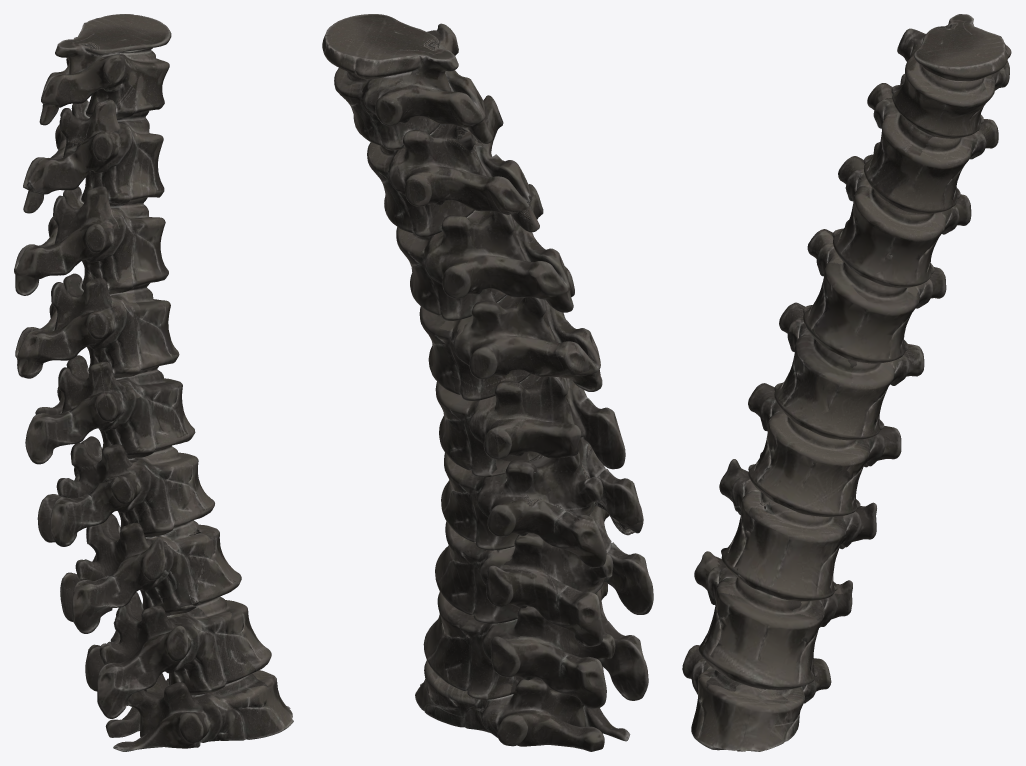
File: spine-phone.glb
3 renders of one model, left to right at view 1: azimuth 30°, elevation 25°; view 2: azimuth 150°, elevation 25°; view 3: azimuth 270°, elevation 25°, orthographic. The views are drawn at different scales.
Visible parts, largest first — view 1: tripo_node_b2a1ff4f-8972-4df4-b4bd-6063b4841254; view 2: tripo_node_b2a1ff4f-8972-4df4-b4bd-6063b4841254; view 3: tripo_node_b2a1ff4f-8972-4df4-b4bd-6063b4841254.
Part boxes in pixels (x1=…): tripo_node_b2a1ff4f-8972-4df4-b4bd-6063b4841254: x1=14, y1=14, x2=293, y2=751; tripo_node_b2a1ff4f-8972-4df4-b4bd-6063b4841254: x1=322, y1=14, x2=653, y2=751; tripo_node_b2a1ff4f-8972-4df4-b4bd-6063b4841254: x1=682, y1=14, x2=1011, y2=751.
Size of the model in its own units: 0.3554 by 0.9821 by 0.4338.
1 material, 1 textured.
